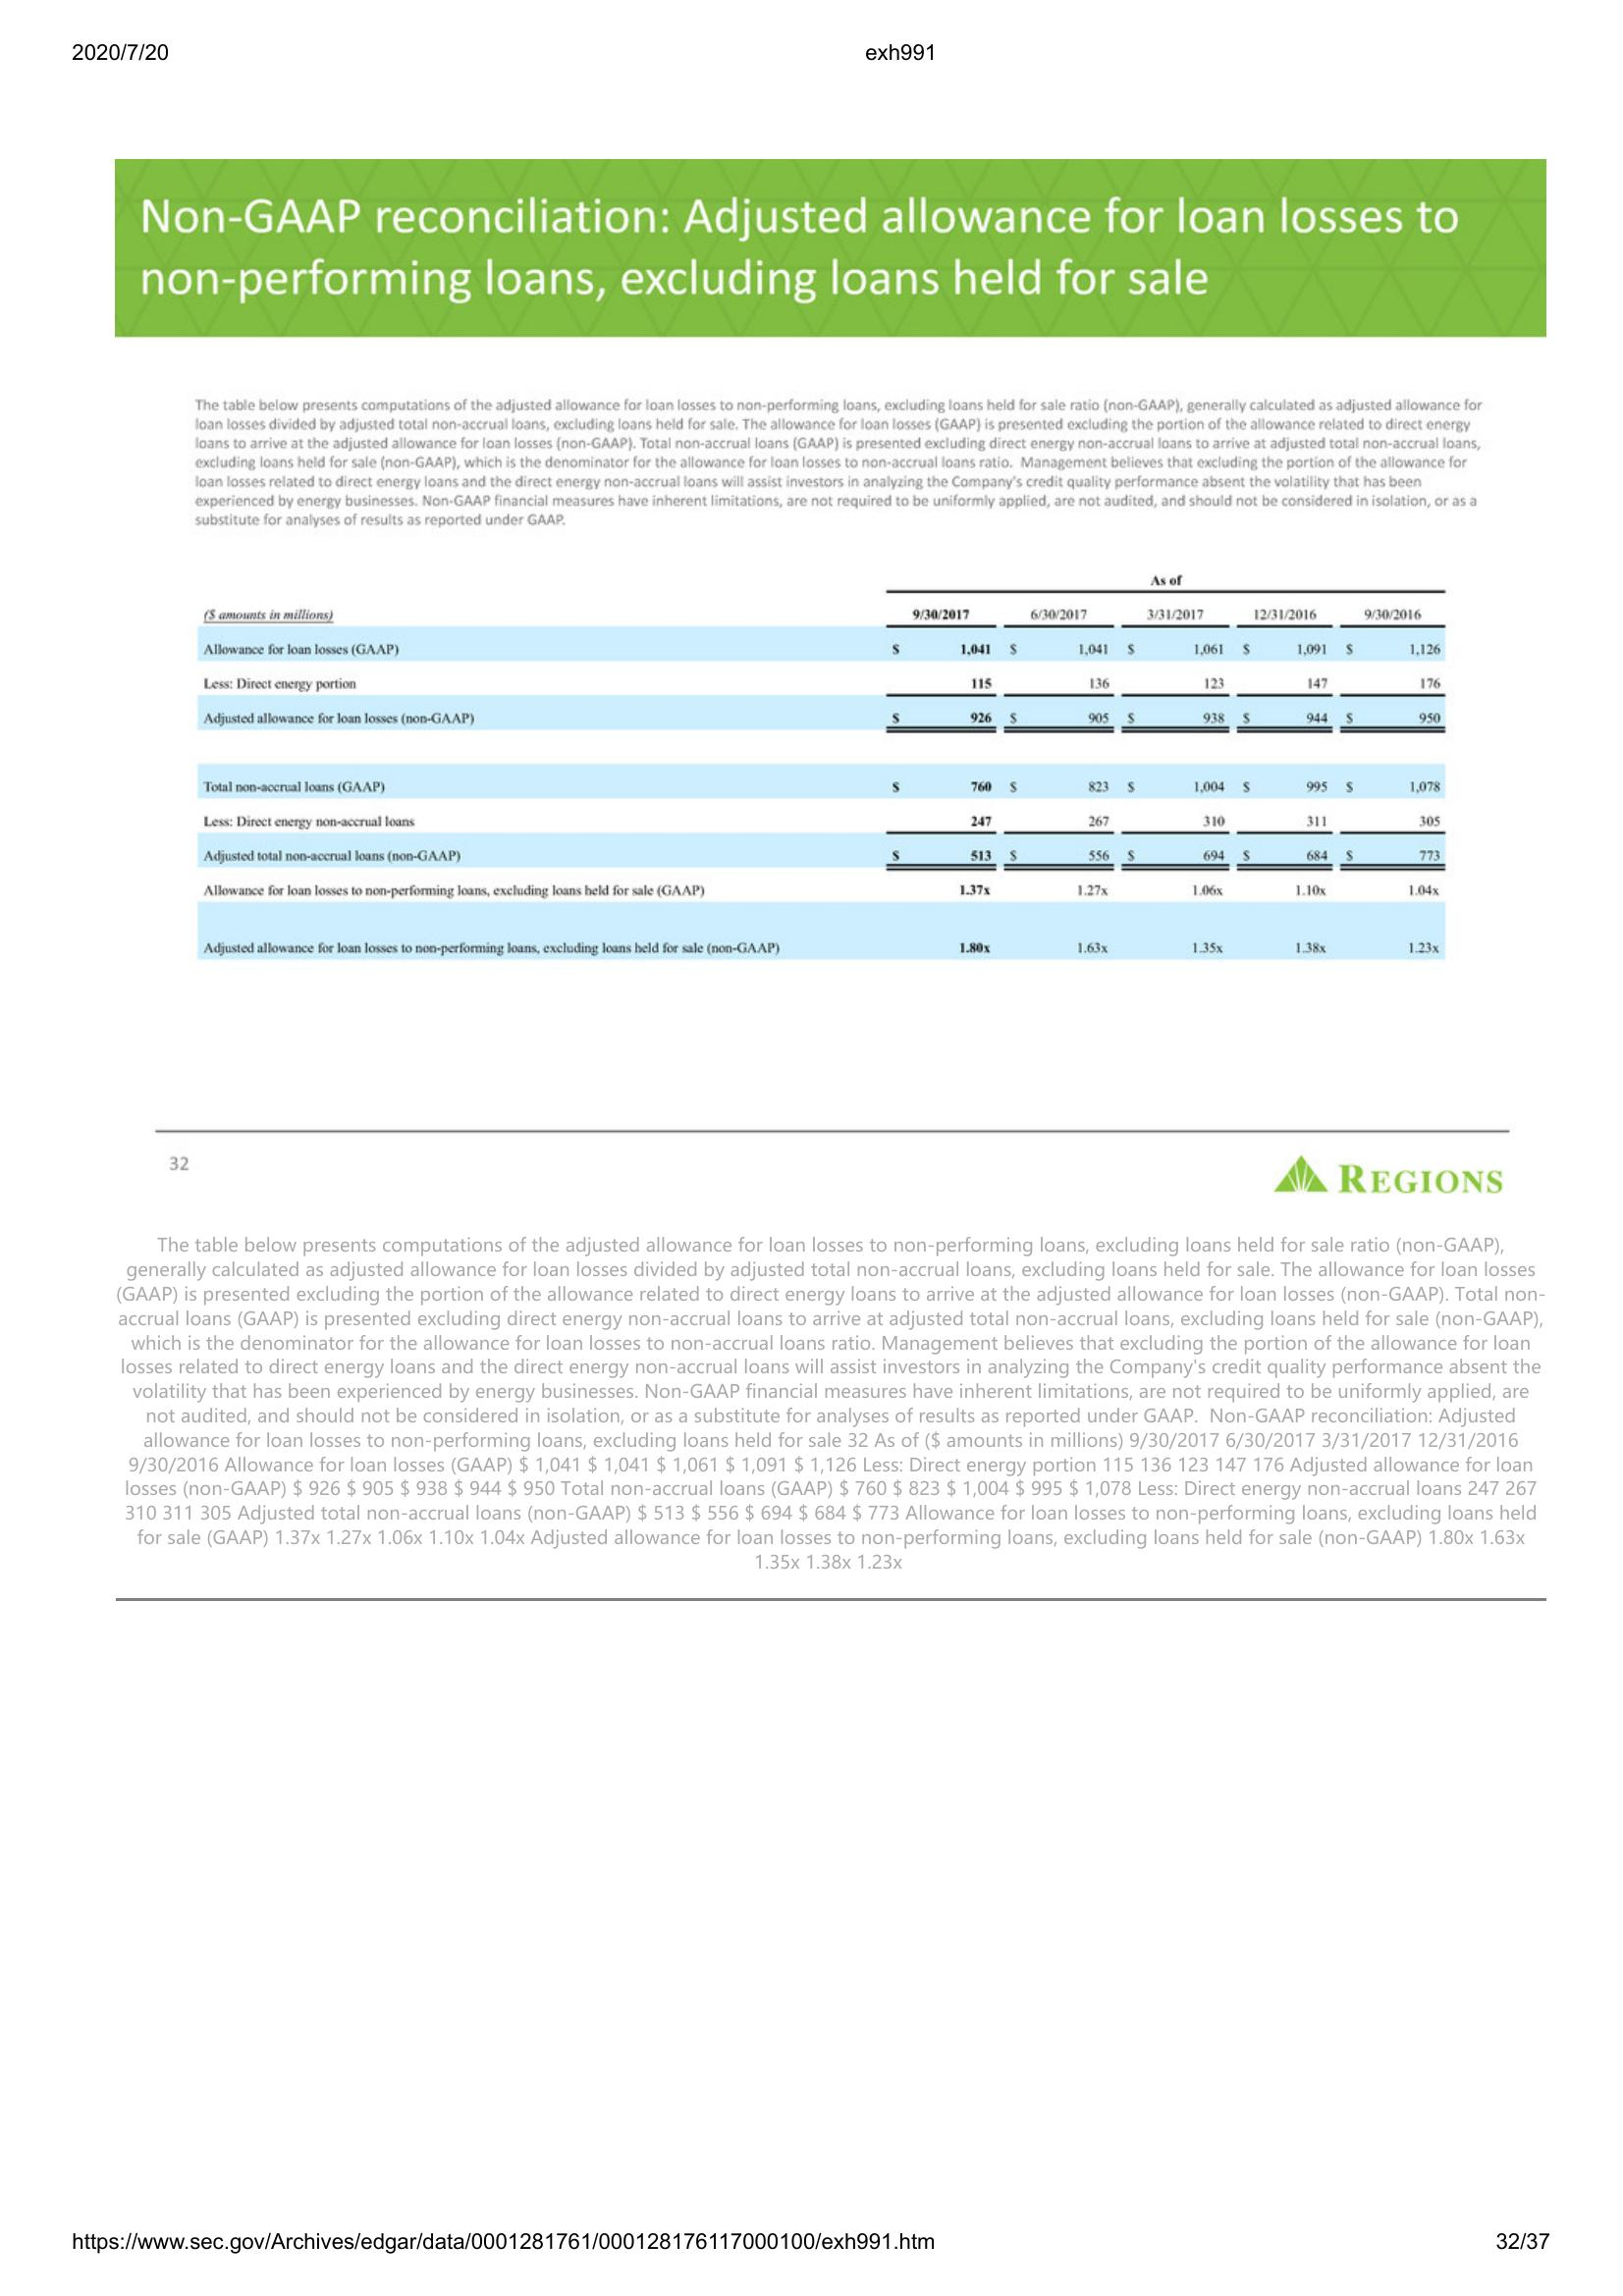table: (183, 574, 1447, 964)
